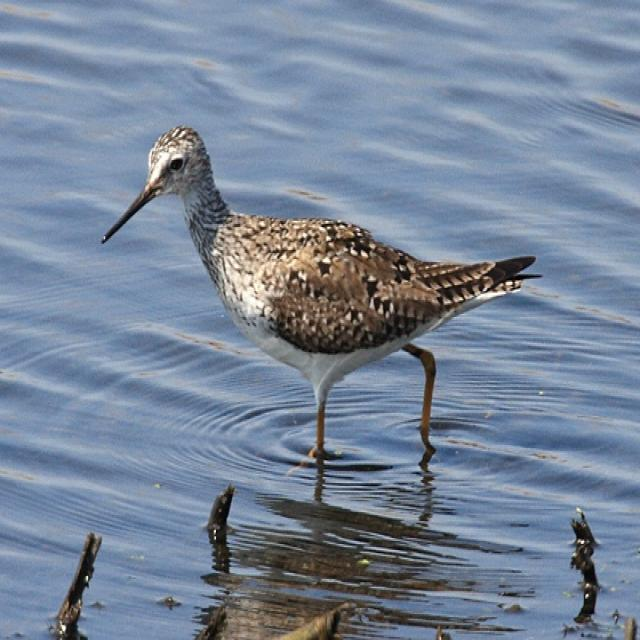bird: (98, 125, 555, 478)
